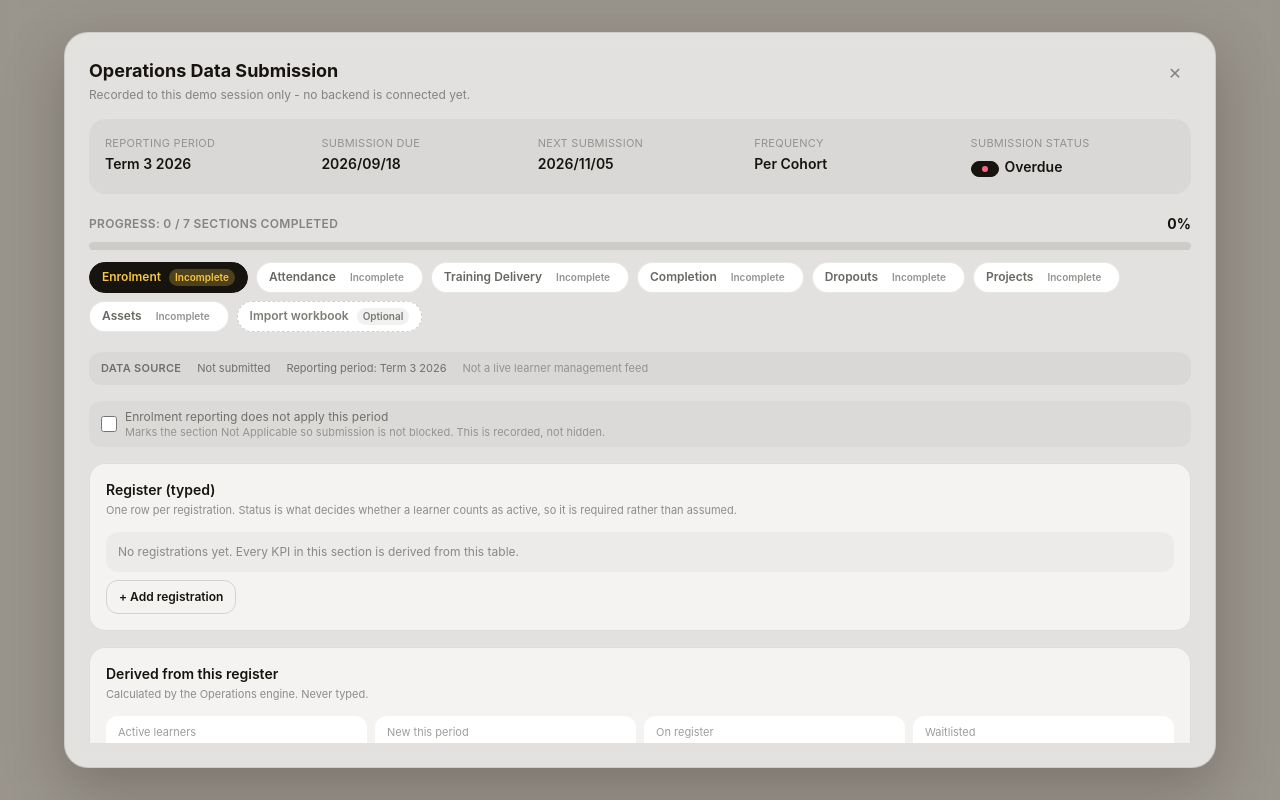
Test: Operations submission modal › states that a KPI with no approved threshold cannot be Green
This screenshot has width=1280, height=800.
Click the button "Enrolment Incomplete" at (168, 277), box x1=89 y1=262 x2=248 y2=293
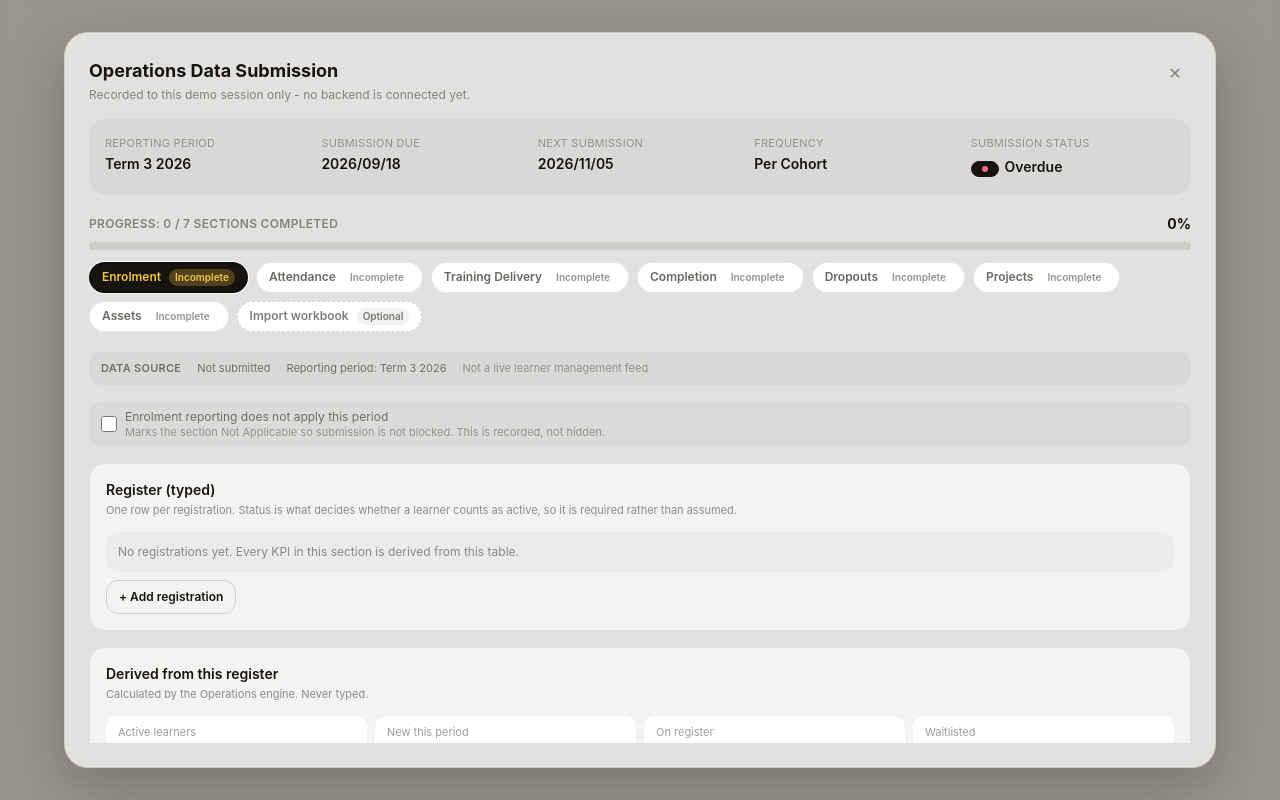
Click the button "+ Add registration" at (171, 597), box x1=106 y1=580 x2=236 y2=614
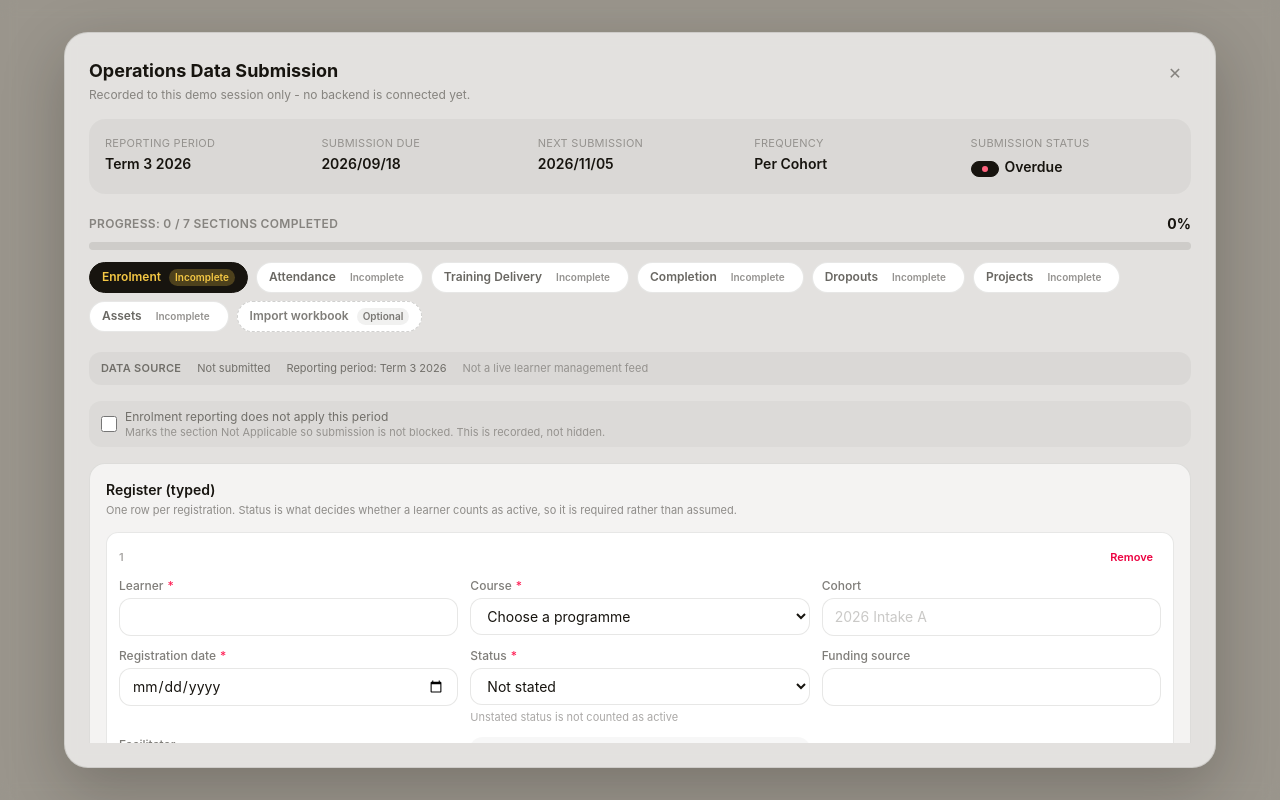
Type "Thandi Mokoena" into the field labelled "Learner*" at (289, 617), box x1=119 y1=598 x2=458 y2=636
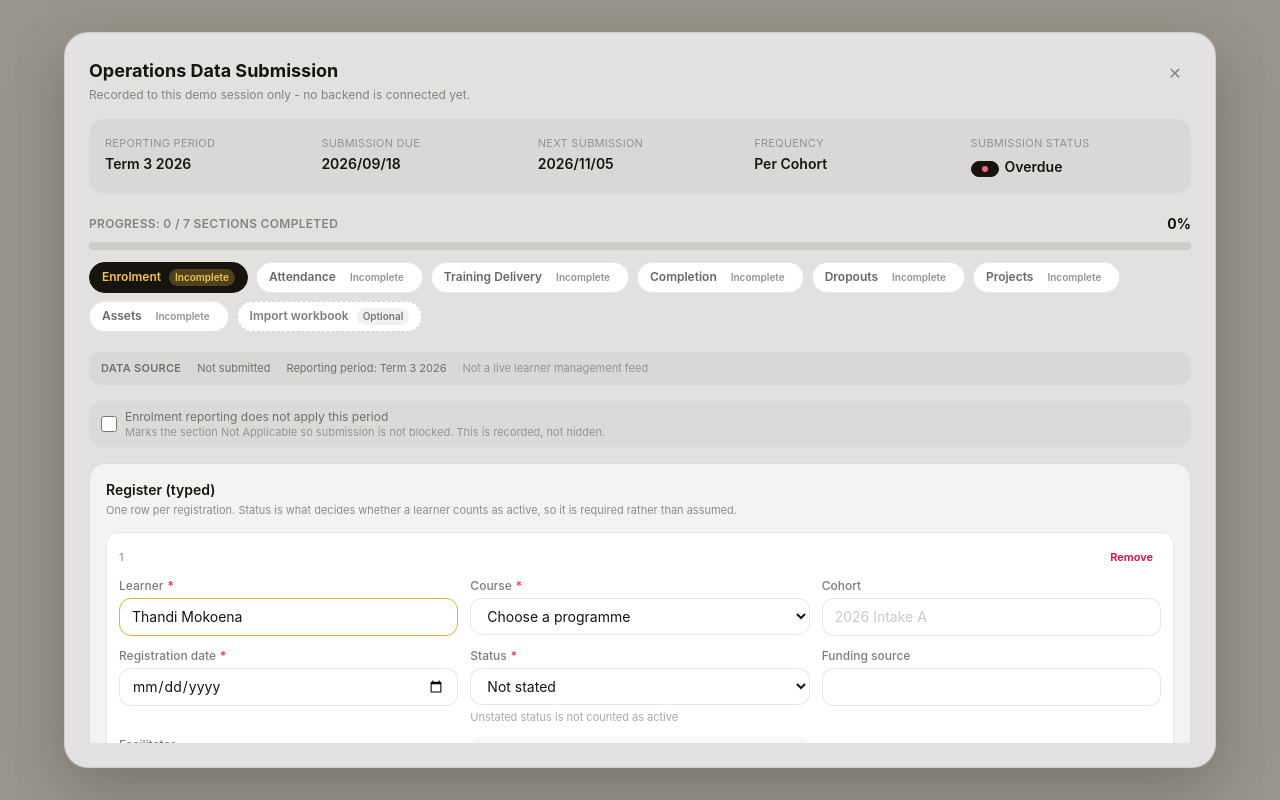
Select "Learner Training" in the dropdown labelled "Course*" at (640, 616), box x1=470 y1=598 x2=810 y2=635
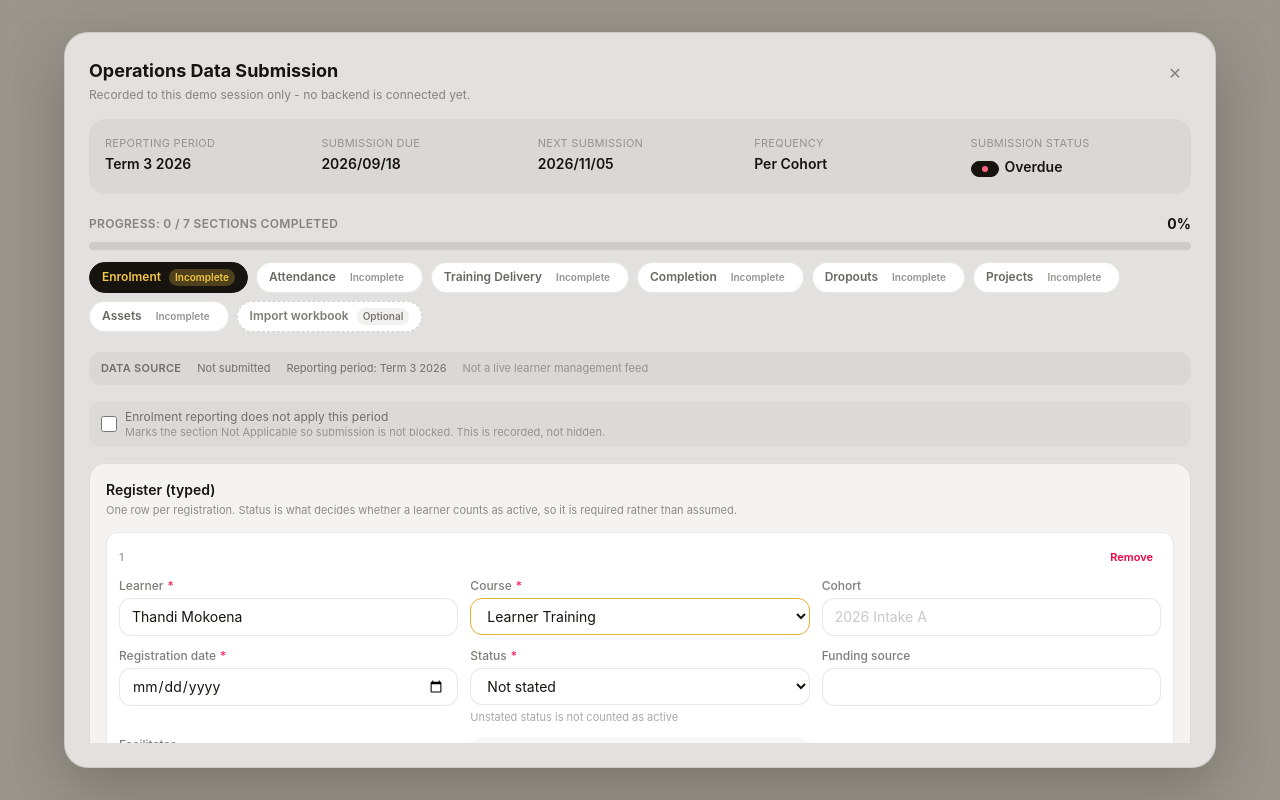
Type "2026-07-01" into the date field labelled "Registration date*" at (289, 687), box x1=119 y1=668 x2=458 y2=706
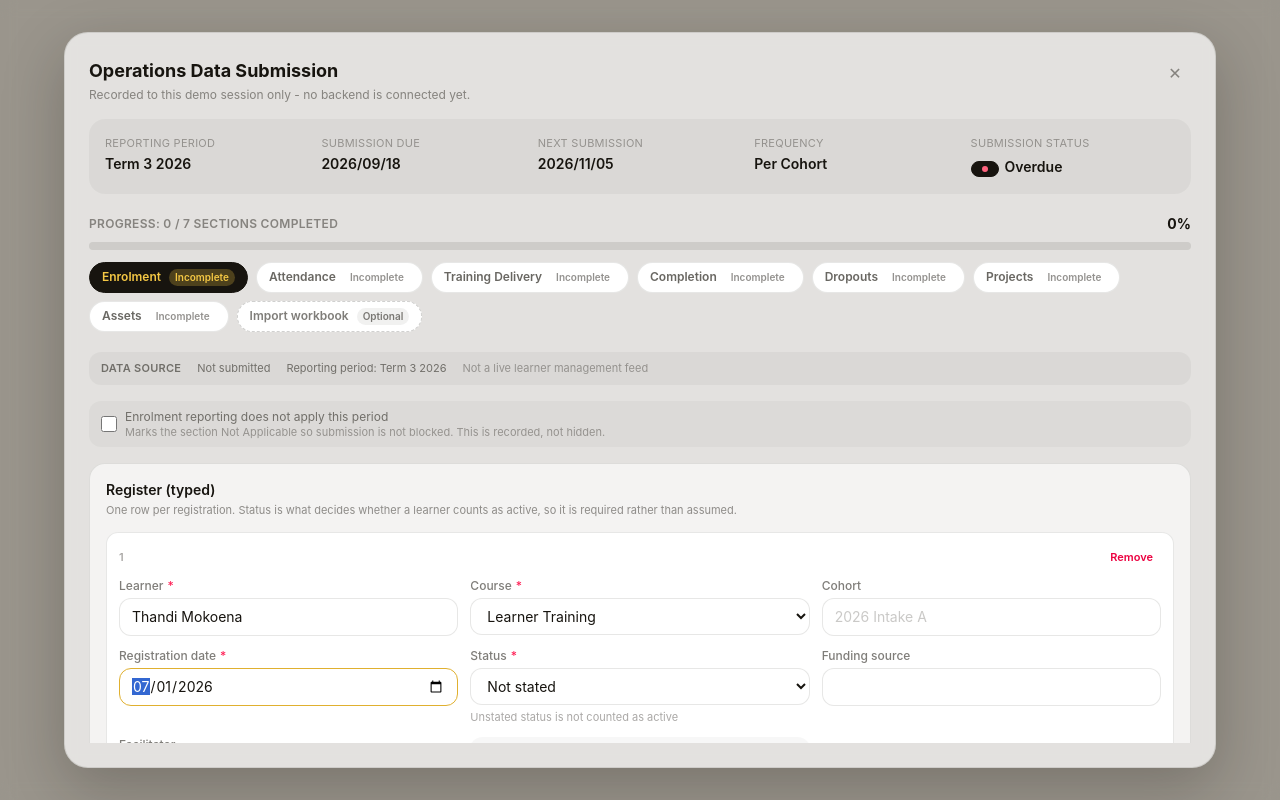
Select "Enrolled" in the dropdown labelled "Status* Unstated status is not counted as active" at (640, 686), box x1=470 y1=668 x2=810 y2=705
(page scrolled)
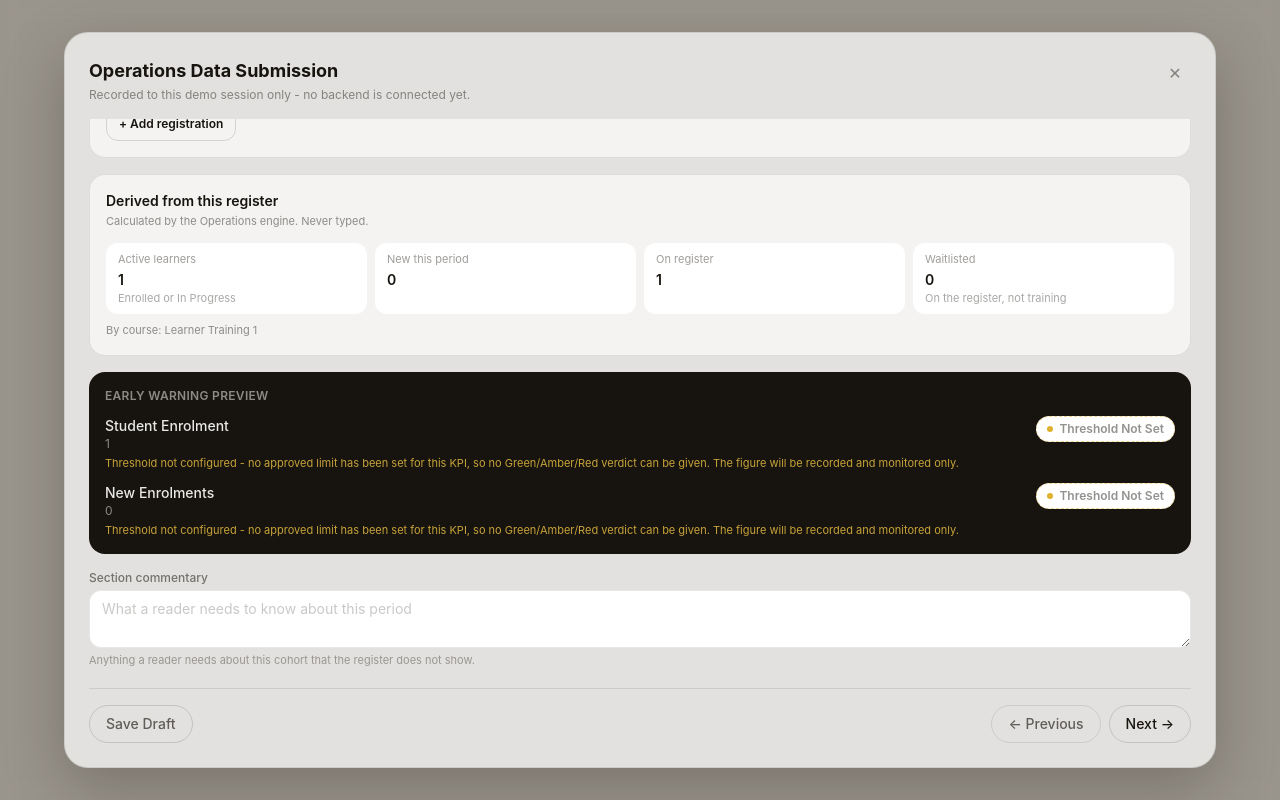
expect the text "Threshold not configured" below "Student Enrolment" is shown: met, box x1=105 y1=456 x2=959 y2=470
